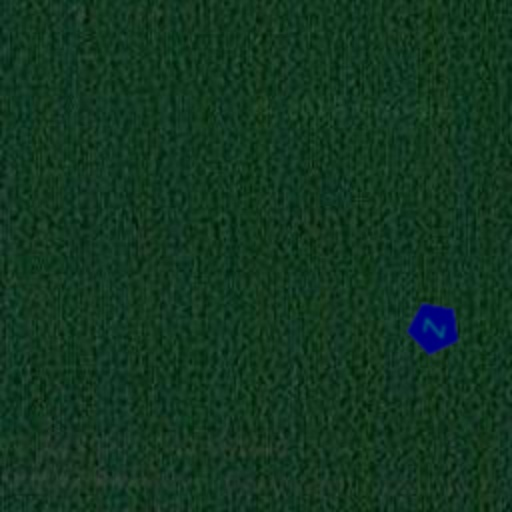pentagon: (400, 294, 468, 362)
